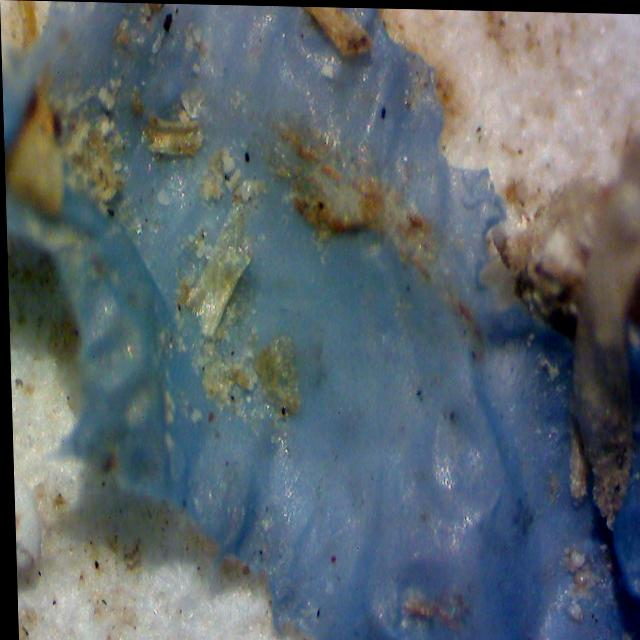microplastic: (1, 1, 640, 640)
